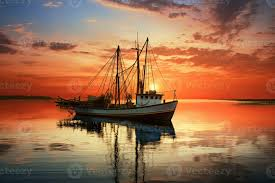boat: (55, 37, 178, 121)
